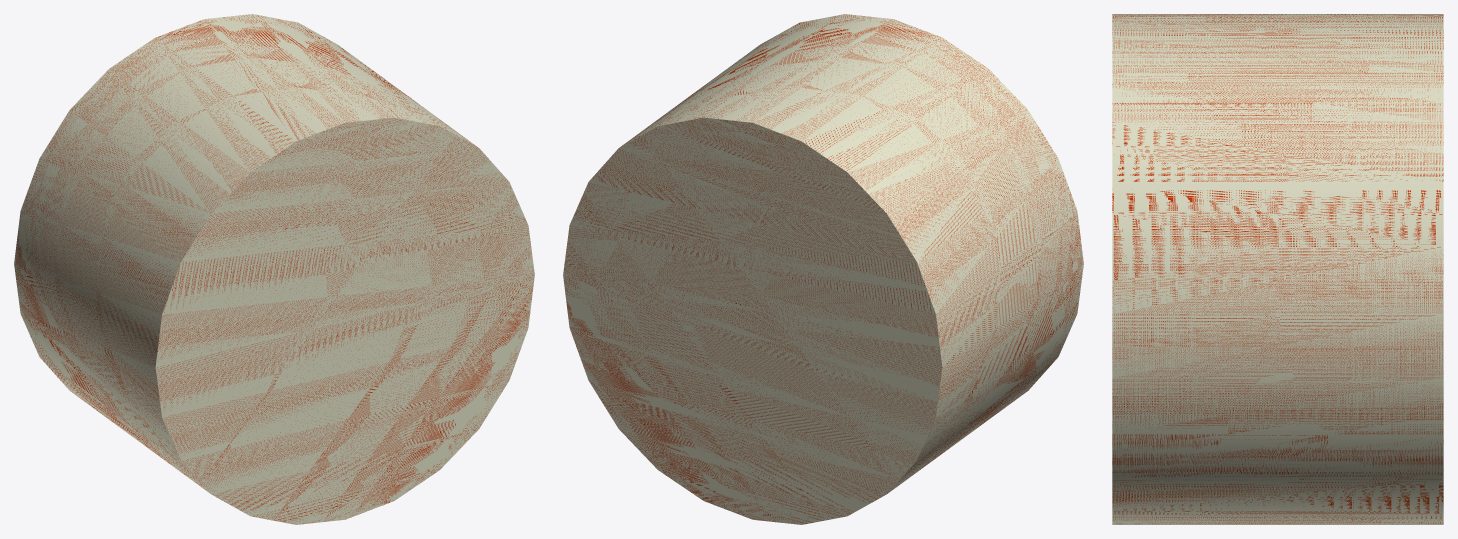
The model's file is original-3.obj.
The picture shows the model from 3 angles, left to right: view 1: azimuth 30°, elevation 25°; view 2: azimuth 150°, elevation 25°; view 3: azimuth 270°, elevation 25°; orthographic projection. The views are drawn at different scales.
Visible parts, largest first — view 1: mesh1/mesh1-geometry#mesh1-geometry; view 2: mesh1/mesh1-geometry#mesh1-geometry; view 3: mesh1/mesh1-geometry#mesh1-geometry.
Part boxes in pixels (<box>): mesh1/mesh1-geometry#mesh1-geometry: <box>14,14,534,524</box>; mesh1/mesh1-geometry#mesh1-geometry: <box>563,14,1083,524</box>; mesh1/mesh1-geometry#mesh1-geometry: <box>1112,14,1443,524</box>.
Bounding box in the file's own units: 0.1017 × 0.1017 × 0.0657.
